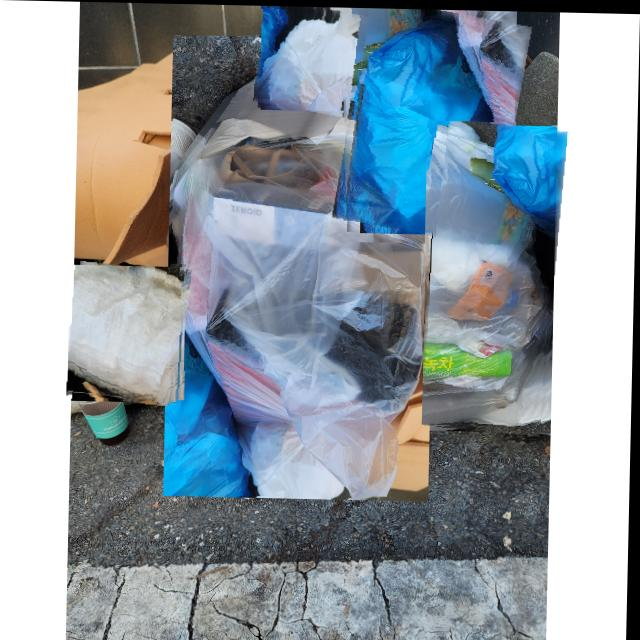other_trashbag: (173, 38, 433, 498), (424, 119, 548, 424), (344, 9, 499, 243), (71, 266, 184, 400), (254, 10, 372, 108)
